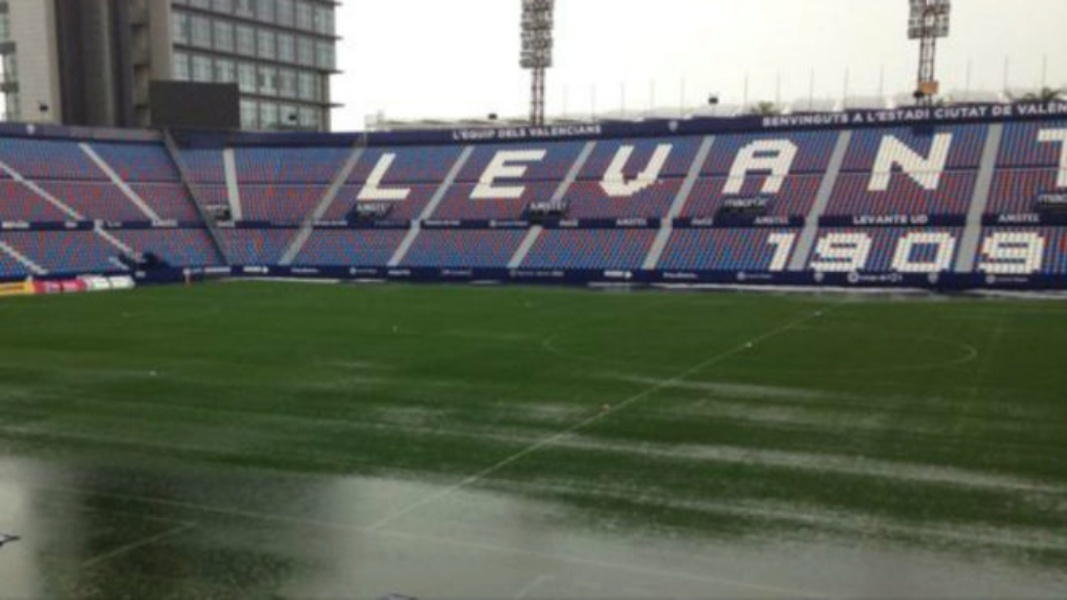text: (385, 130, 400, 203), (401, 130, 416, 203), (417, 130, 432, 203), (433, 130, 448, 203), (449, 130, 464, 203), (465, 130, 480, 203), (481, 130, 496, 203), (497, 130, 512, 203), (513, 130, 528, 203), (529, 130, 544, 203), (545, 130, 560, 203), (561, 130, 576, 203), (577, 130, 592, 203), (593, 130, 608, 203), (609, 130, 624, 203), (625, 130, 640, 203), (641, 130, 656, 203), (657, 130, 672, 203), (673, 130, 688, 203), (689, 130, 704, 203), (705, 130, 720, 203), (721, 130, 736, 203), (737, 130, 752, 203), (753, 130, 768, 203), (769, 130, 784, 203), (785, 130, 800, 203), (801, 130, 816, 203), (817, 130, 832, 203), (833, 130, 848, 203), (849, 130, 864, 203), (865, 130, 880, 203), (881, 130, 896, 203), (897, 130, 912, 203), (913, 130, 928, 203), (929, 130, 944, 203), (945, 130, 958, 203), (769, 230, 784, 275), (785, 230, 800, 275), (801, 230, 816, 275), (817, 230, 832, 275), (833, 230, 848, 275), (849, 230, 864, 275), (865, 230, 880, 275), (881, 230, 896, 275), (897, 230, 912, 275), (913, 230, 928, 275), (929, 230, 944, 275), (945, 230, 960, 275), (961, 230, 976, 275), (977, 230, 992, 275), (993, 230, 1008, 275), (1009, 230, 1024, 275), (1025, 230, 1040, 275), (1041, 230, 1051, 275), (769, 101, 784, 130), (785, 101, 800, 130), (801, 101, 816, 130), (817, 101, 832, 130), (833, 101, 848, 130), (849, 101, 864, 130), (865, 101, 880, 130), (881, 101, 896, 130), (897, 101, 912, 130), (913, 101, 928, 130), (929, 101, 944, 130), (945, 101, 960, 130), (961, 101, 976, 130), (977, 101, 992, 130), (993, 101, 1008, 130), (1009, 101, 1024, 130), (1025, 101, 1040, 130), (1041, 101, 1056, 130), (465, 120, 480, 141), (481, 120, 496, 141), (497, 120, 512, 141), (513, 120, 528, 141), (529, 120, 544, 141), (545, 120, 560, 141), (561, 120, 576, 141), (577, 120, 592, 141), (450, 120, 464, 141), (380, 130, 384, 203), (759, 101, 768, 130), (1057, 101, 1066, 130), (593, 120, 600, 141), (765, 230, 768, 275)
